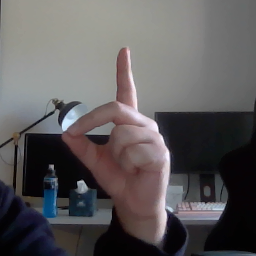K: (60, 44, 173, 209)
